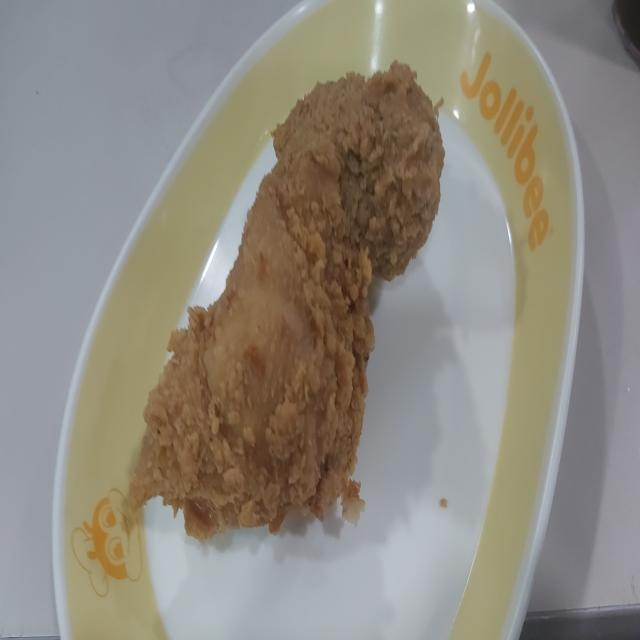Chicken -Fried Chicken-: (126, 55, 459, 548)
